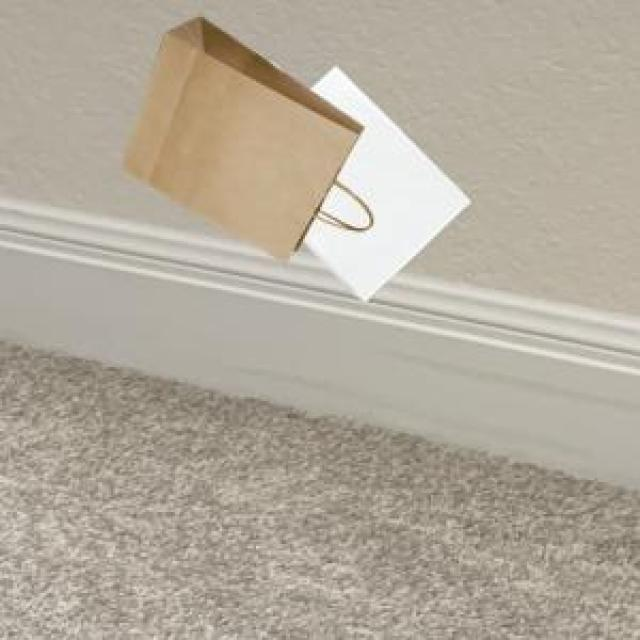paper: (117, 13, 358, 258), (299, 62, 465, 297)
